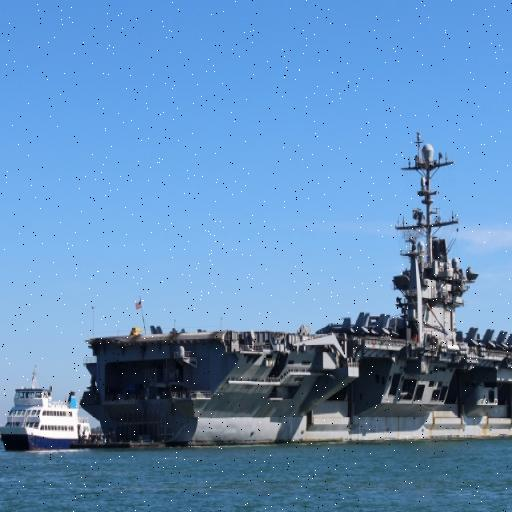Portanaves: (76, 125, 512, 455)
